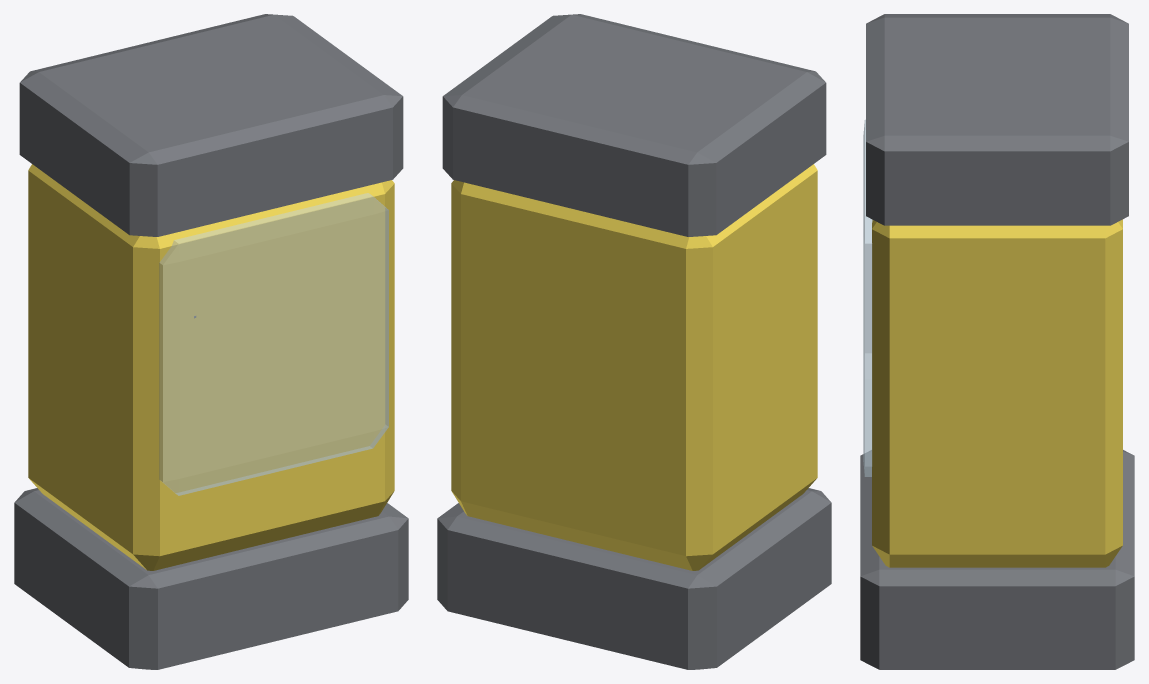
File: b05_traffic_signal_controller_cabinet.glb
3 views of the same model, side by side, from view 1: azimuth 30°, elevation 25°; view 2: azimuth 150°, elevation 25°; view 3: azimuth 270°, elevation 25° (orthographic). The views are drawn at different scales.
Parts seen in each view (by area): view 1: b05_traffic_signal_controller_cabinet; view 2: b05_traffic_signal_controller_cabinet; view 3: b05_traffic_signal_controller_cabinet.
Part boxes in pixels (<box>): b05_traffic_signal_controller_cabinet: <box>14,14,408,669</box>; b05_traffic_signal_controller_cabinet: <box>437,14,831,669</box>; b05_traffic_signal_controller_cabinet: <box>860,14,1134,669</box>.
Bounding box in the file's own units: 1 × 1.76 × 0.826.
